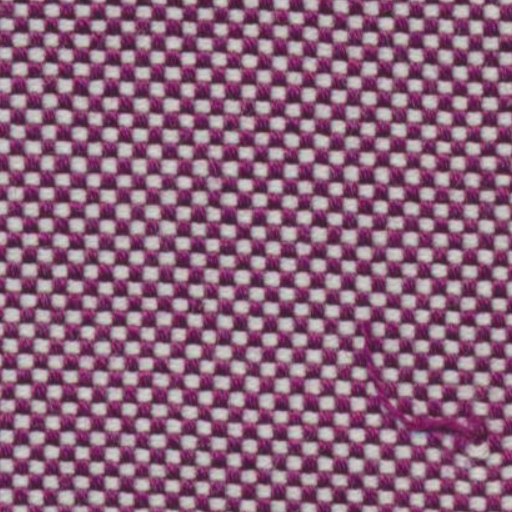DuanSha: (345, 292, 500, 442)
